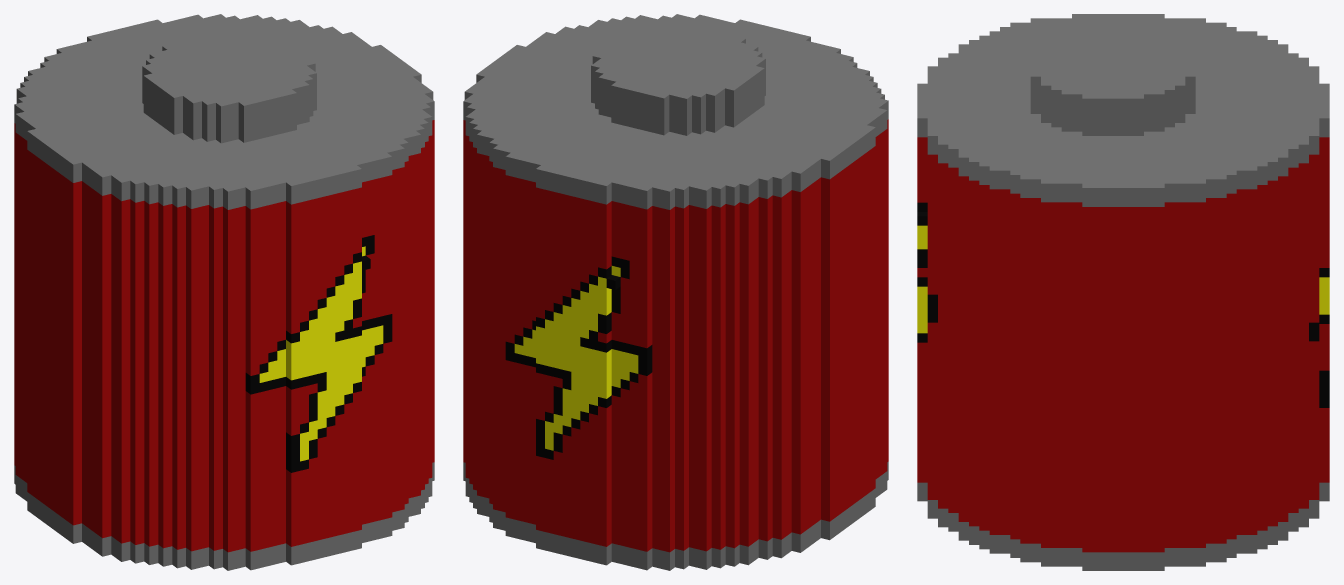
File: battery.obj
3 views of the same model, side by side, from view 1: azimuth 30°, elevation 25°; view 2: azimuth 150°, elevation 25°; view 3: azimuth 270°, elevation 25° (orthographic).
Size of the model in its own units: 4 by 4.5 by 4.
1 material, 1 textured.
